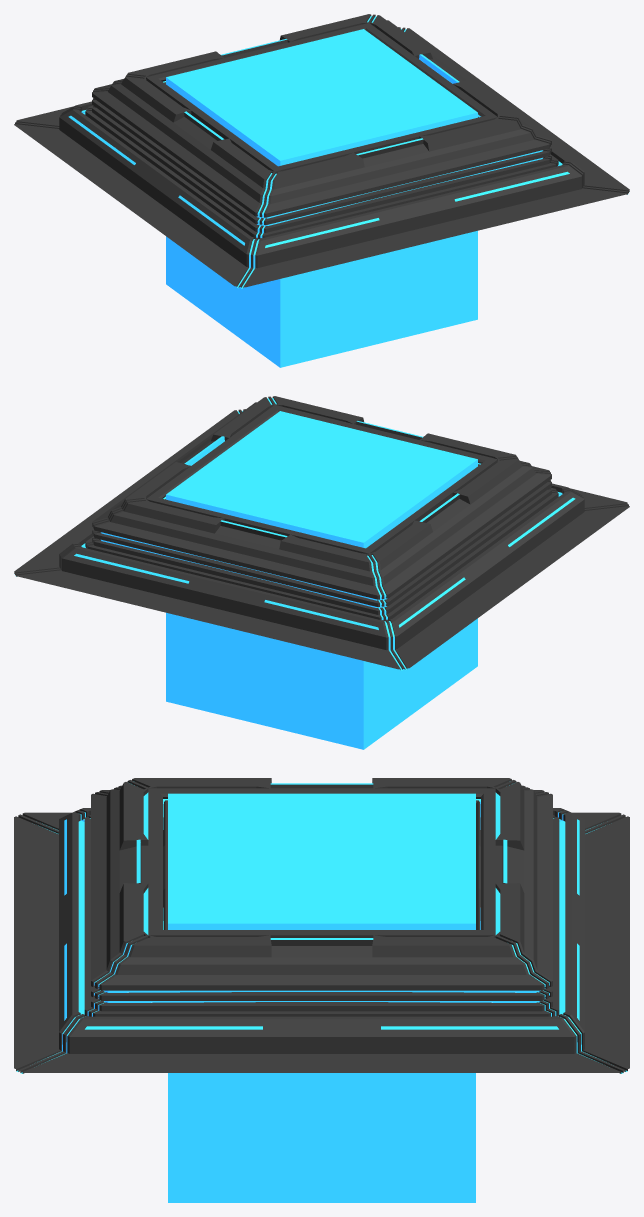
Rendered from center.glb.
3 views of the same model, one above another, from view 1: azimuth 30°, elevation 25°; view 2: azimuth 150°, elevation 25°; view 3: azimuth 270°, elevation 25° (orthographic). The views are drawn at different scales.
Visible parts, largest first — view 1: Center; view 2: Center; view 3: Center.
Part boxes in pixels (left/top/right/bottom): Center: left=14, top=14, right=629, bottom=367; Center: left=14, top=396, right=629, bottom=749; Center: left=14, top=778, right=629, bottom=1202.
Bounding box in the file's own units: 4 × 2 × 4.
